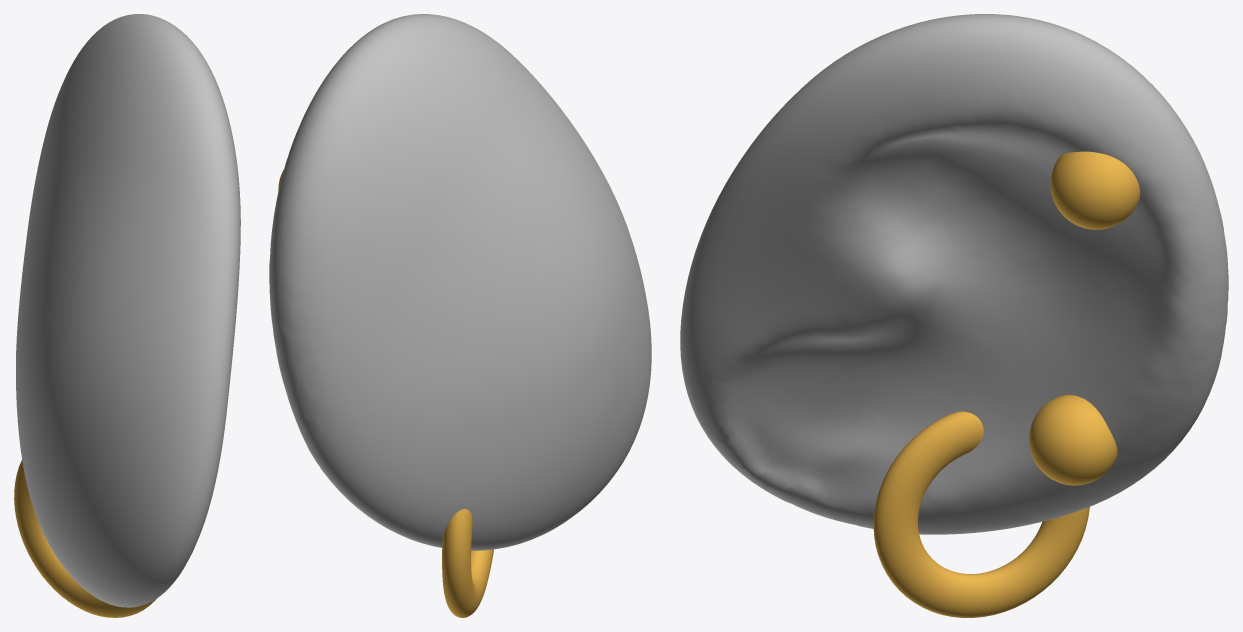
The model's file is model_ear_006_earringstack.fbx.
3 renders of one model, left to right at view 1: azimuth 30°, elevation 25°; view 2: azimuth 150°, elevation 25°; view 3: azimuth 270°, elevation 25°, orthographic. The views are drawn at different scales.
Parts seen in each view (by area): view 1: PM3D_Sphere3D1_11; view 2: PM3D_Sphere3D1_11; view 3: PM3D_Sphere3D1_11.
Boxes of the visible parts, left/top/right/bottom form: PM3D_Sphere3D1_11: left=14, top=14, right=240, bottom=617; PM3D_Sphere3D1_11: left=269, top=14, right=651, bottom=617; PM3D_Sphere3D1_11: left=680, top=14, right=1228, bottom=617.
Size of the model in its own units: 0.2866 by 0.6907 by 0.5364.
